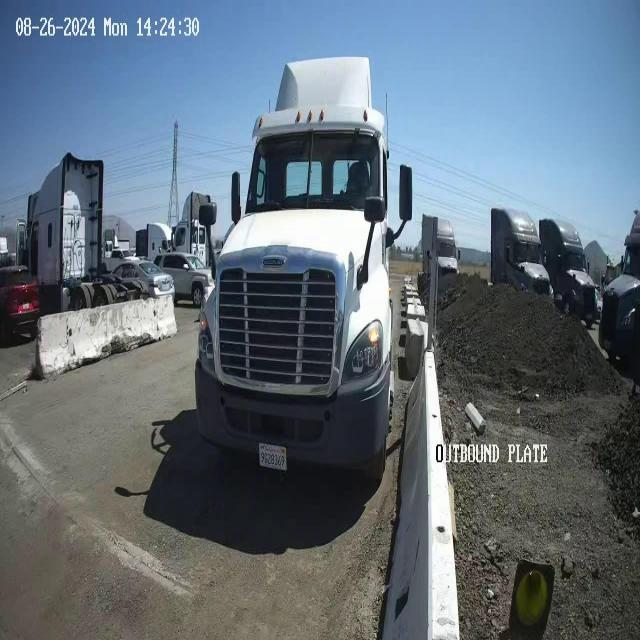TRUCK_OUT: (193, 55, 413, 484)
